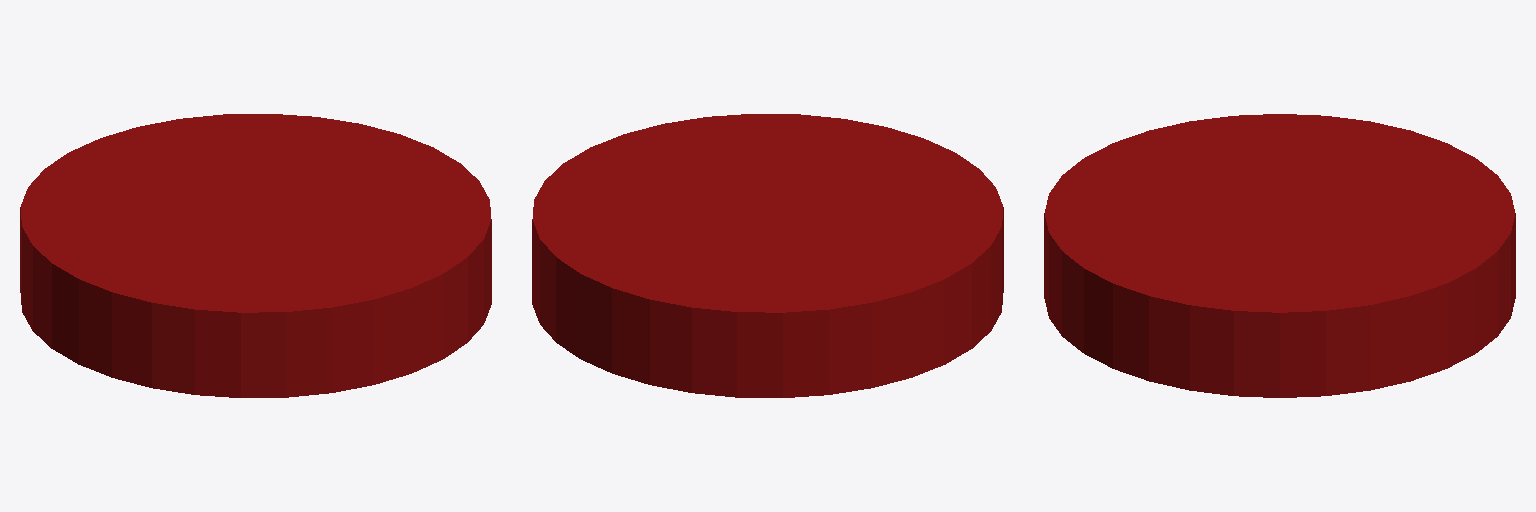
The robot description file, URDF, robot "PPBot":
<?xml version="1.0" ?>

<robot name="PPBot">

    <link name="link0">
        <inertial>
            <origin xyz="0.0 0.0 0.0" rpy="0 0 0" />
            <mass value="0.001" />
            <inertia ixx="0.084167" iyy="0.083467" izz="0.000967" ixy="0" ixz="0" iyz="0" />
        </inertial>
        <!-- <visual>
            <origin xyz="-0.045 0.0 0.0" rpy="0 0 0" />
            <geometry>
                <box size="0.04 1.0 0.1" />
            </geometry>
            <material name="material_red_custom" >
                <color rgba="0.6 0.1 0.1 1.0" />
            </material>  
        </visual>
        <visual>
            <origin xyz="0.0 0.0 0.0" rpy="0 0 0" />
            <geometry>
                <cylinder radius="0.05" length="0.04" />
            </geometry>
            <material name="material_green_custom" >
                <color rgba="0.1 0.3 0.1 1.0" />
            </material>  
        </visual> -->
    </link>

    <link name="link1">
        <inertial>
            <origin xyz="0.0 0.0 0.0" rpy="0 0 0" />
            <mass value="0.001" />
            <inertia ixx="0.084167" iyy="0.083467" izz="0.000967" ixy="0" ixz="0" iyz="0" />
        </inertial>
        <!-- <visual>
            <origin xyz="0.25 0.0 0.0" rpy="0 0 0" />
            <geometry>
                <box size="0.5 0.1 0.03" />
            </geometry>
            <material name="material_green_custom" >
                <color rgba="0.1 0.3 0.1 1.0" />
            </material>   
        </visual>
        <visual>
            <origin xyz="0.5 0.0 0.0" rpy="0 0 0" />
            <geometry>
                <cylinder radius="0.1" length="0.04" />
            </geometry>
            <material name="material_red_custom" >
                <color rgba="0.6 0.1 0.1 1.0" />
            </material>  
        </visual> -->
    </link>

    <link name="link2">
        <inertial>
            <origin xyz="0.0 0.0 0.0" rpy="0 0 0" />
            <mass value="1" />
            <inertia ixx="q" iyy="1" izz="1" ixy="0" ixz="0" iyz="0" />
        </inertial>
        <!-- <visual>
            <origin xyz="0.25 0.0 0.0" rpy="0 0 0" />
            <geometry>
                <box size="0.5 0.1 0.03" />
            </geometry>
            <material name="material_green_custom" >
                <color rgba="0.1 0.3 0.1 1.0" />
            </material>   
        </visual> -->
        <visual>
            <origin xyz="0.0 0.0 0.0" rpy="0 0 0" />
            <geometry>
                <cylinder radius="0.1" length="0.04" />
            </geometry>
            <material name="material_red_custom" >
                <color rgba="0.6 0.1 0.1 1.0" />
            </material>  
        </visual>
    </link>

    <joint name="j0" type="prismatic">
        <parent link="link0" />
        <child link="link1" />
        <origin xyz="0 0 0" rpy="0 0 0" />
        <axis xyz="1 0 0" />
        <calibration falling="0"/>
        <limit lower="-100" upper="100" effort="176" velocity="1.7104" />
    </joint>    
    <joint name="j1" type="prismatic">
        <parent link="link1" />
        <child link="link2" />
        <origin xyz="0 0 0" rpy="0 0 0" />
        <axis xyz="0 1 0" />
        <calibration falling="0"/>
        <limit lower="-100" upper="100" effort="176" velocity="1.7104" />
    </joint>        
    
</robot>

--- Facts derived from the render (not from the file) ---
The picture shows the robot from 3 angles, left to right: view 1: azimuth 30°, elevation 25°; view 2: azimuth 150°, elevation 25°; view 3: azimuth 270°, elevation 25°; orthographic projection.
Model PPBot with 3 links and 2 joints (2 prismatic), rooted at link0, posed all joints at 0.
Links seen in each view (by area): view 1: link2; view 2: link2; view 3: link2.
Link boxes in pixels (x1,y1,x2,y2): link2: [20, 114, 491, 397]; link2: [532, 114, 1003, 397]; link2: [1044, 114, 1515, 397].
Size in the robot's own frame: 0.2 by 0.2 by 0.04 metres.
Geometry: primitives only (box / cylinder / sphere), no mesh files.